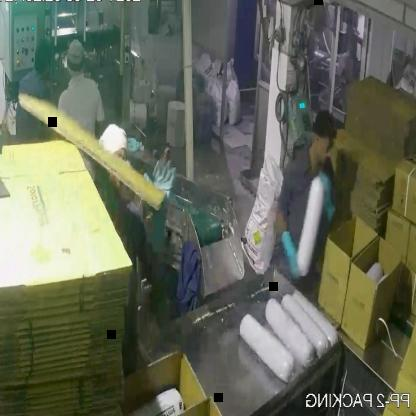glove: (142, 155, 179, 261), (277, 219, 307, 288), (315, 171, 338, 225)
